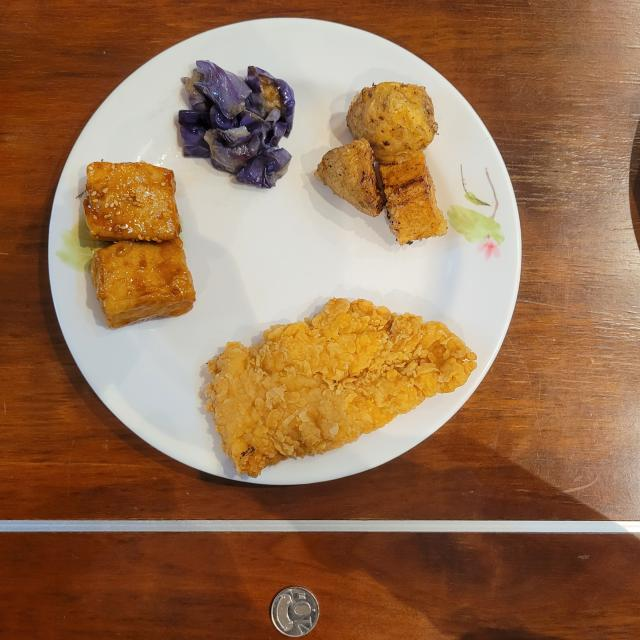coin: (271, 586, 319, 638)
creamy tofu: (84, 162, 195, 328)
fried chicken cutlet: (205, 299, 476, 478)
fried potato: (315, 82, 448, 245)
